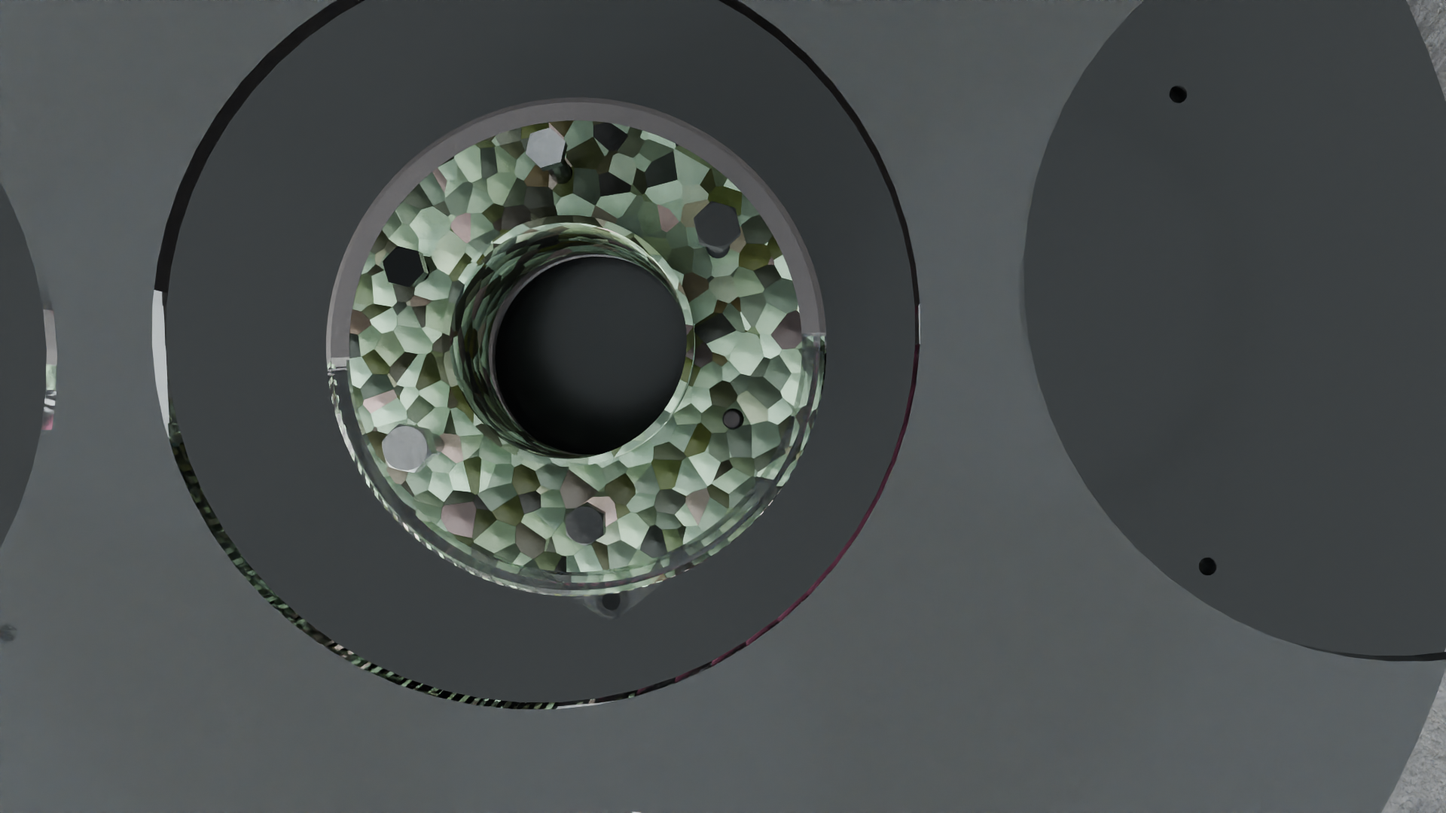bolt: (382, 424, 432, 473), (694, 201, 741, 249), (383, 246, 424, 288), (526, 127, 566, 168), (566, 503, 604, 546)
